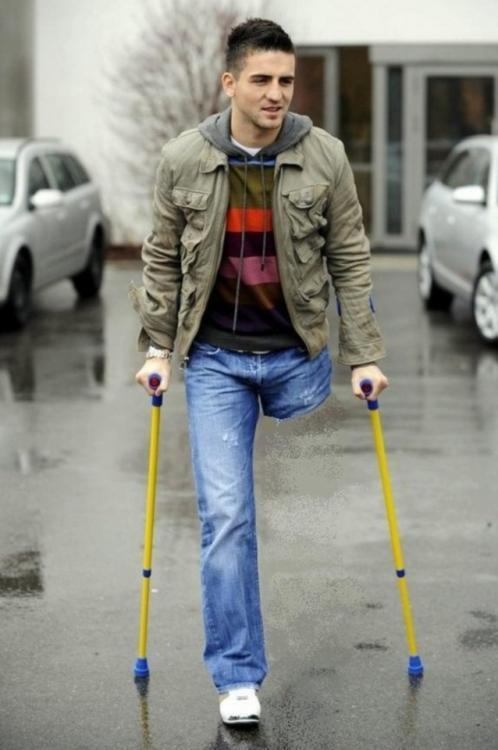crutches: (119, 1, 438, 702)
